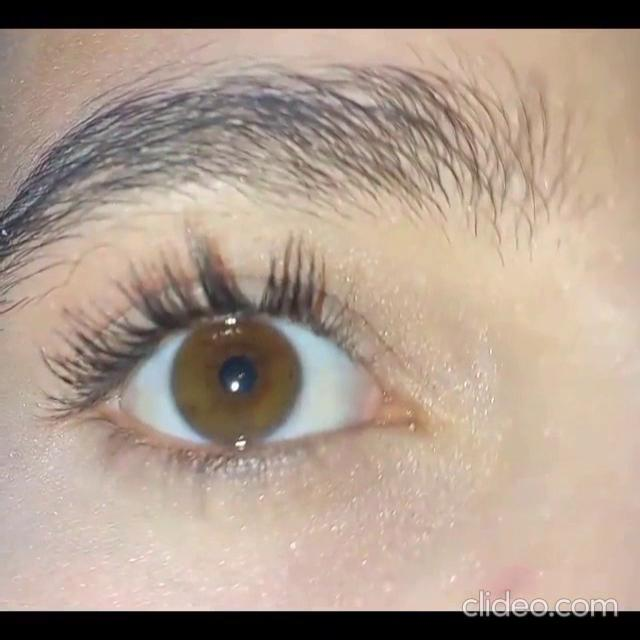iris: (172, 318, 301, 443)
pupille: (218, 355, 255, 389)
